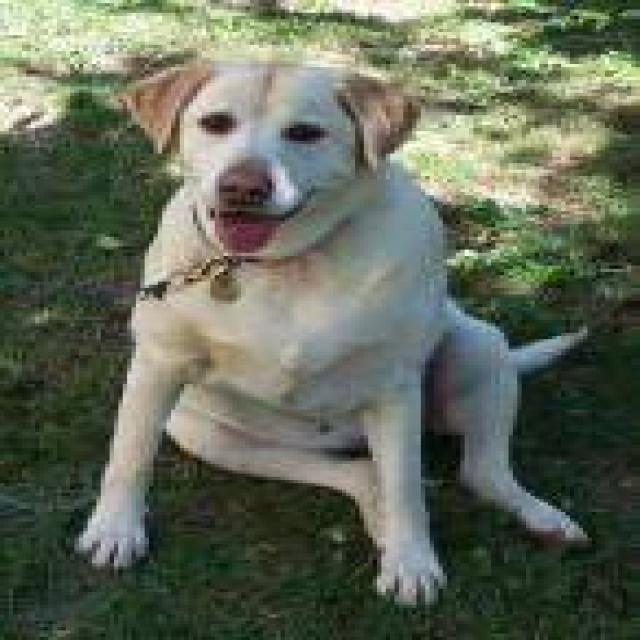Dog: (116, 56, 413, 264)
